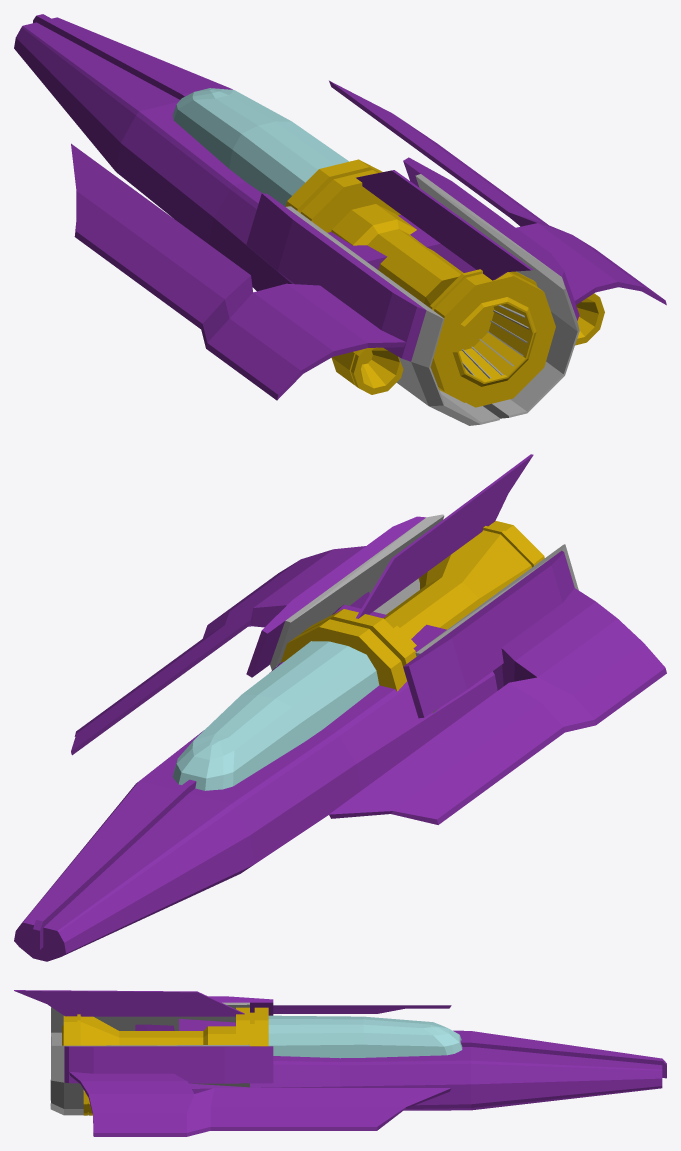
File: Ship_combined.fbx
The picture shows the model from 3 angles, top to bottom: view 1: azimuth 30°, elevation 25°; view 2: azimuth 150°, elevation 25°; view 3: azimuth 270°, elevation 25°; orthographic projection. The views are drawn at different scales.
Parts seen in each view (by area): view 1: ship_combined; view 2: ship_combined; view 3: ship_combined.
Boxes of the visible parts, left/top/right/bottom form: ship_combined: left=14, top=14, right=666, bottom=425; ship_combined: left=14, top=454, right=666, bottom=961; ship_combined: left=14, top=990, right=666, bottom=1136.
Size of the model in its own units: 6.35 by 2.85 by 13.98.
